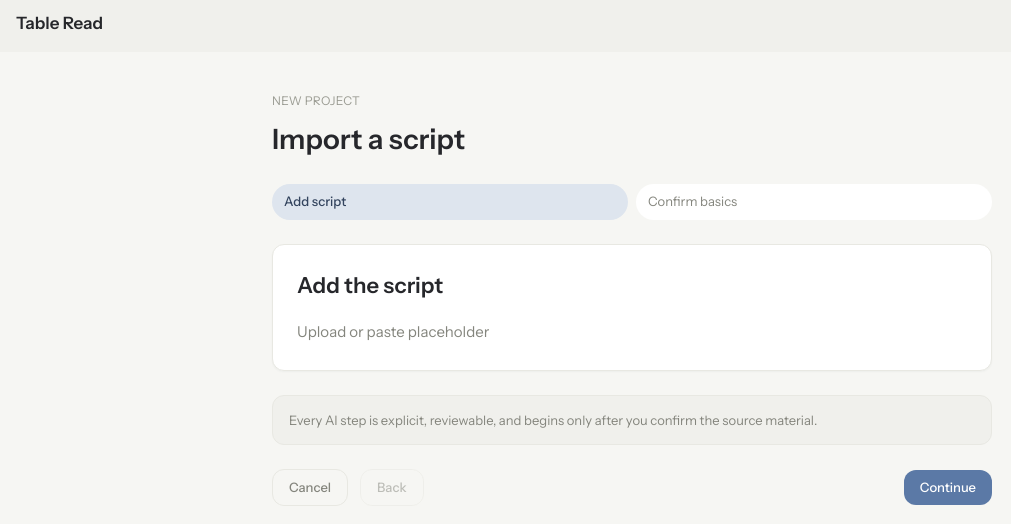
Scenario: WizardShell › moves forward and back without discarding the current step body
The image size is (1011, 524).
Click the button "Continue" at (948,487), box [904,470,992,505]
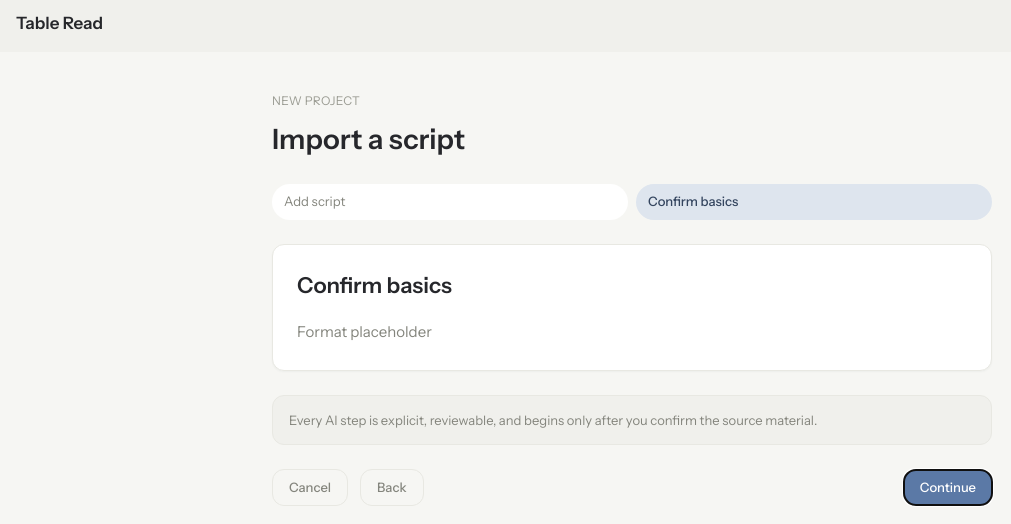
Expected: the text "Format placeholder" is shown, [297,322,432,340]
Click the button "Back" at (392,487), box [360,468,424,506]
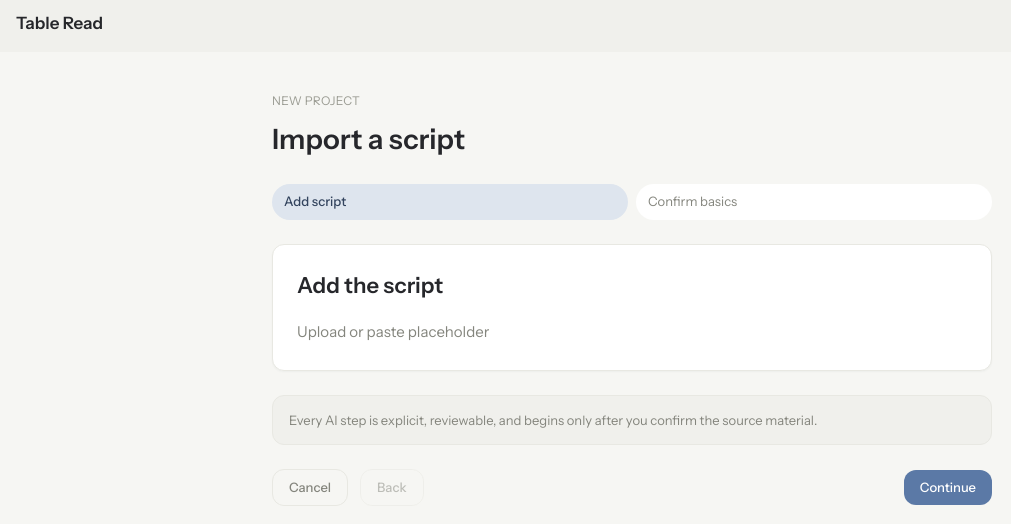
Expected: the text "Upload or paste placeholder" is shown, [297,322,489,340]
